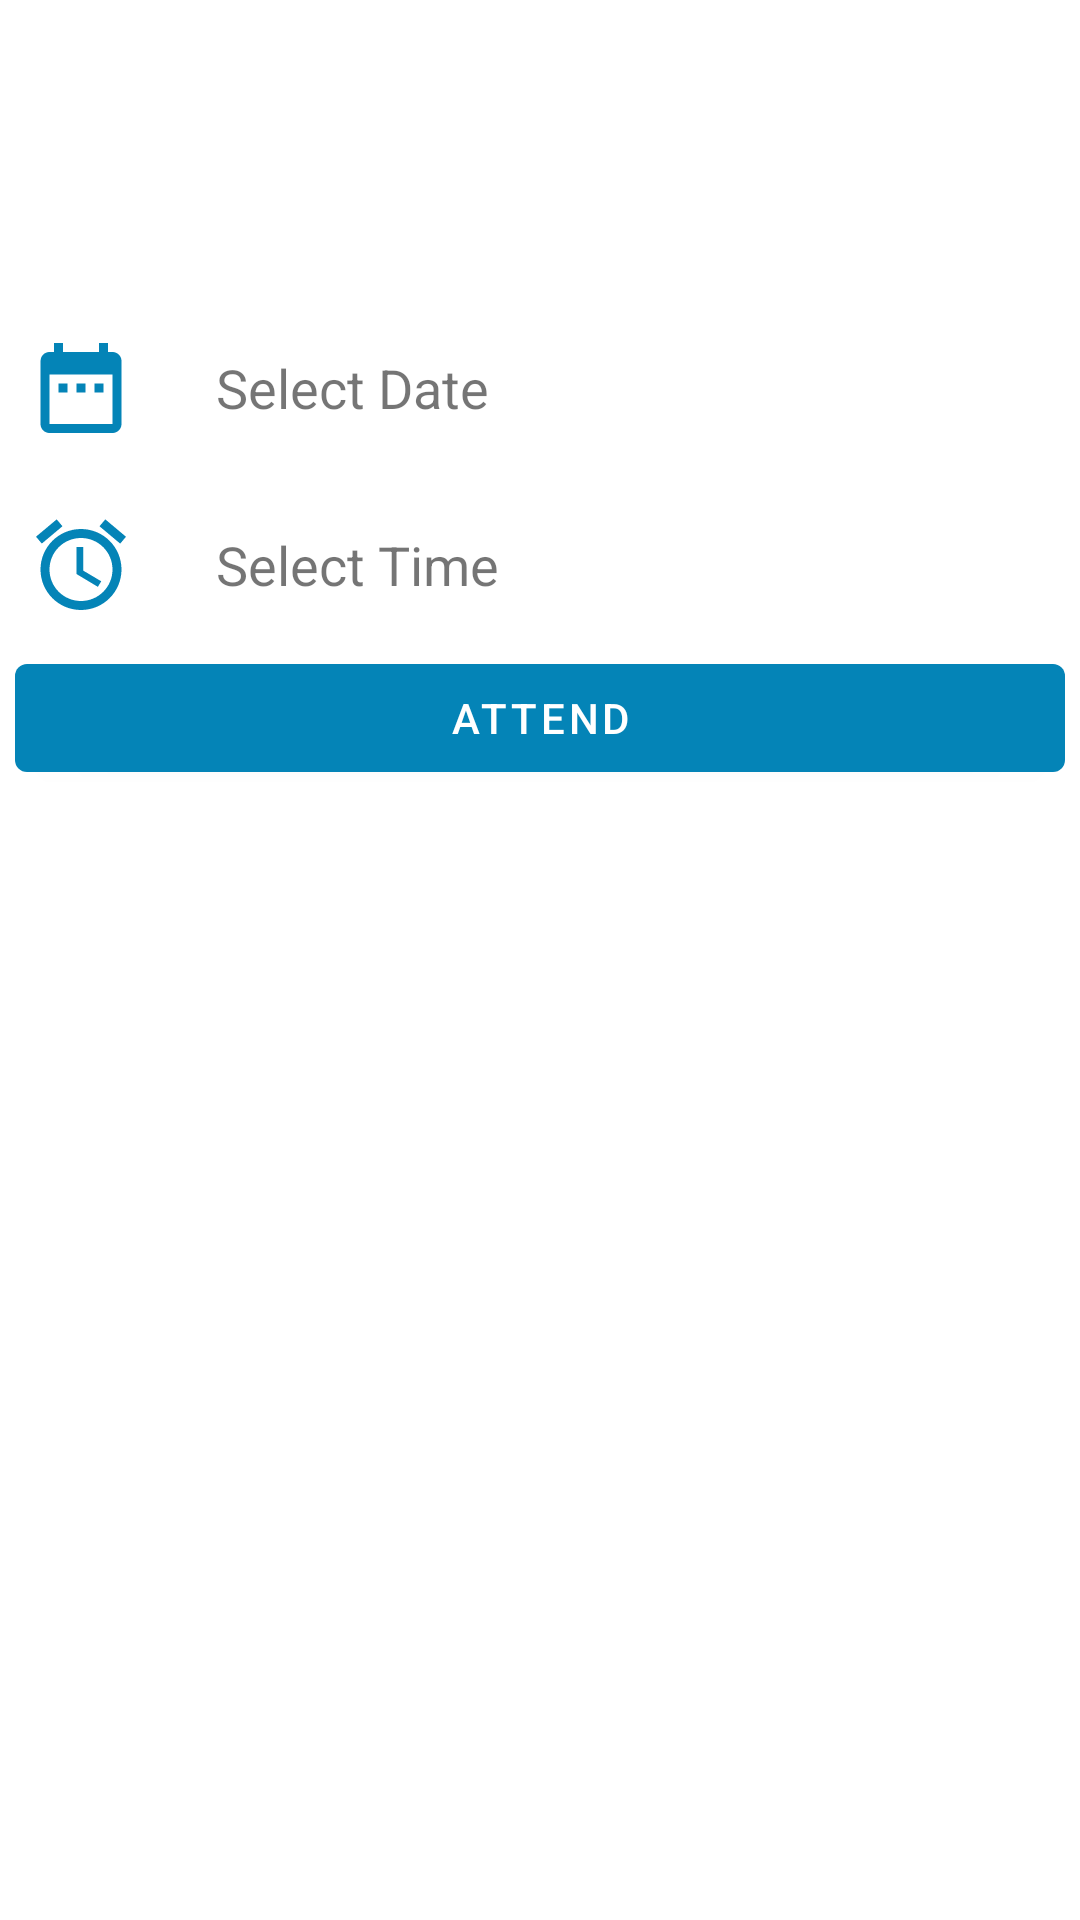

Locate icon controls on the screen. Image size 1080w x 1920h, boxes as (x1, y1, x2, y2).
date pic: (40, 343, 122, 433)
time pick: (36, 519, 126, 610)
